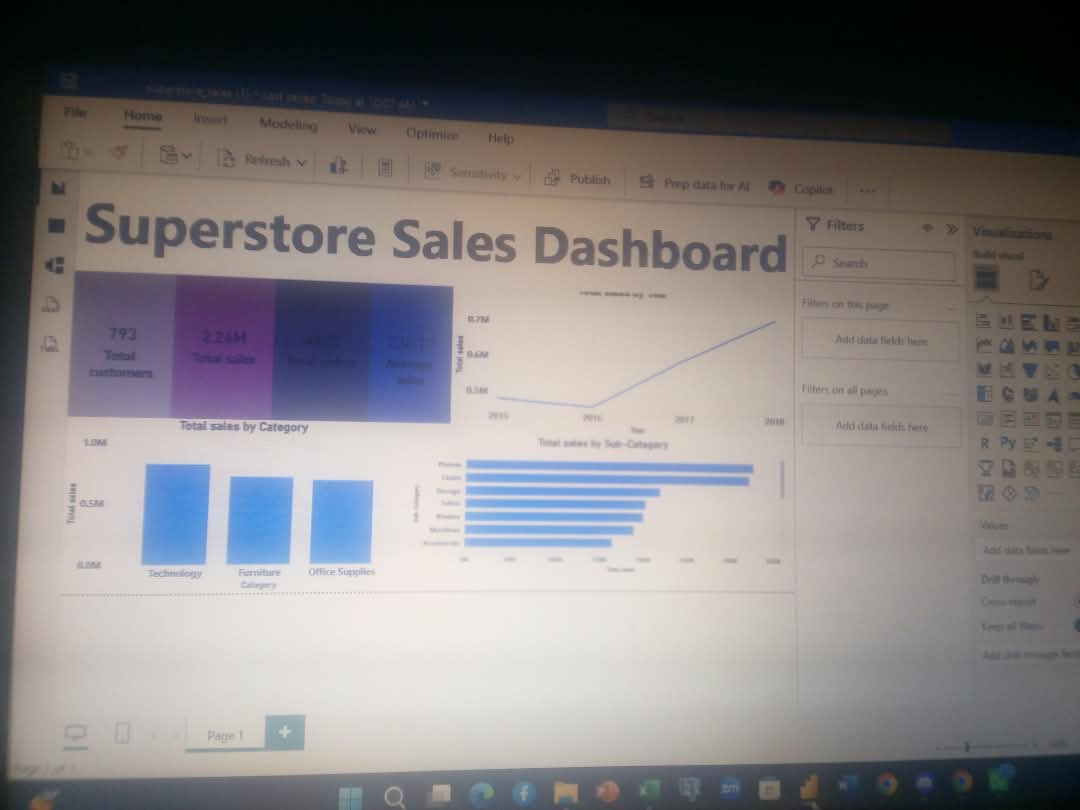

The dashboard page shown, as its layout file describes it:
{"tool":"powerbi","page":{"name":"Page 1","canvas":[1280,720],"ordinal":0},"visuals":[{"type":"card","fields":{"Values":["factsales.Total customers"]},"box":[0,162.9,164.6,262],"z":0},{"type":"card","fields":{"Values":["factsales.Total orders"]},"box":[329.2,162.9,164.6,262],"z":1000},{"type":"card","fields":{"Values":["factsales.Total sales"]},"box":[164.6,162.9,164.6,262],"z":2000},{"type":"card","fields":{"Values":["factsales.Average sales"]},"box":[493.9,162.9,146.1,262],"z":3000},{"type":"clusteredColumnChart","fields":{"Y":["factsales.Total sales"],"Category":["Dimproduct.Category"]},"box":[0,425,572.8,295.6],"z":4000},{"type":"clusteredBarChart","fields":{"Category":["Dimproduct.Sub-Category"],"Y":["factsales.Total sales"]},"box":[572.8,443.5,693.8,250.3],"z":4001},{"type":"lineChart","fields":{"Category":["factsales.Order Date.Variation.Date Hierarchy.Year","factsales.Order Date.Variation.Date Hierarchy.Quarter","factsales.Order Date.Variation.Date Hierarchy.Month","factsales.Order Date.Variation.Date Hierarchy.Day"],"Y":["factsales.Total sales"]},"box":[640,162.9,626.6,280.5],"z":4002},{"type":"textbox","box":[0,0,1280,53.8],"z":4003}]}

Visuals, with their boxes on the page's 1280x720 design canvas (x1, y1, x2, y2). These are canvas units, not pixel positions in the 1080x810 screenshot, which may show the page scaled, cropped or inside an application window:
card - factsales.Total customers: Rect(0, 163, 165, 425)
card - factsales.Total orders: Rect(329, 163, 494, 425)
card - factsales.Total sales: Rect(165, 163, 329, 425)
card - factsales.Average sales: Rect(494, 163, 640, 425)
clusteredColumnChart - factsales.Total sales x Dimproduct.Category: Rect(0, 425, 573, 721)
clusteredBarChart - Dimproduct.Sub-Category x factsales.Total sales: Rect(573, 444, 1267, 694)
lineChart - factsales.Order Date.Variation.Date Hierarchy.Year x factsales.Order Date.Variation.Date Hierarchy.Quarter: Rect(640, 163, 1267, 443)
textbox: Rect(0, 0, 1280, 54)
